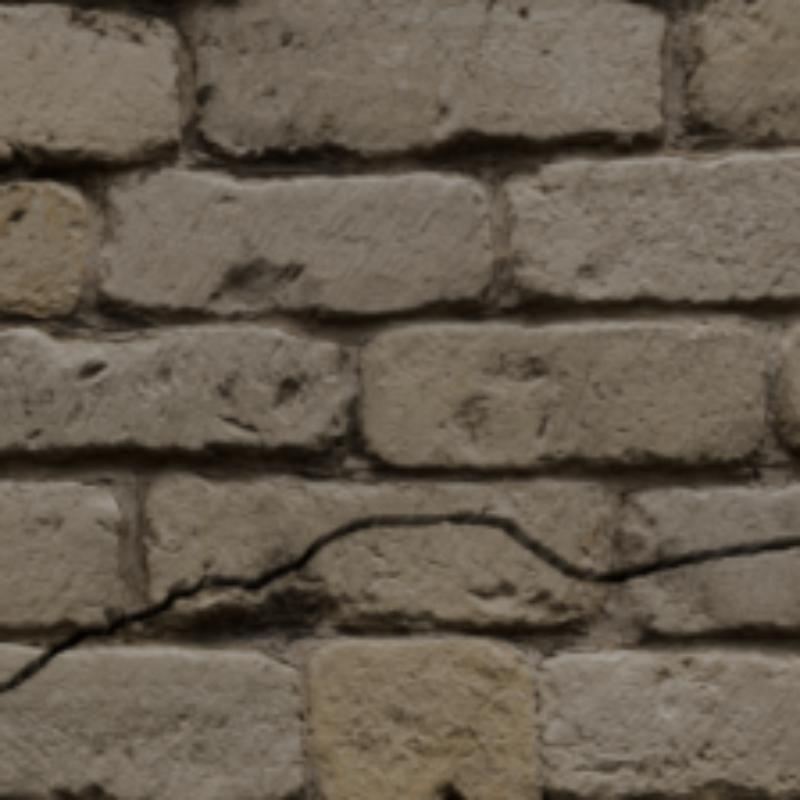pothole: (0, 518, 439, 689), (439, 518, 796, 582)
